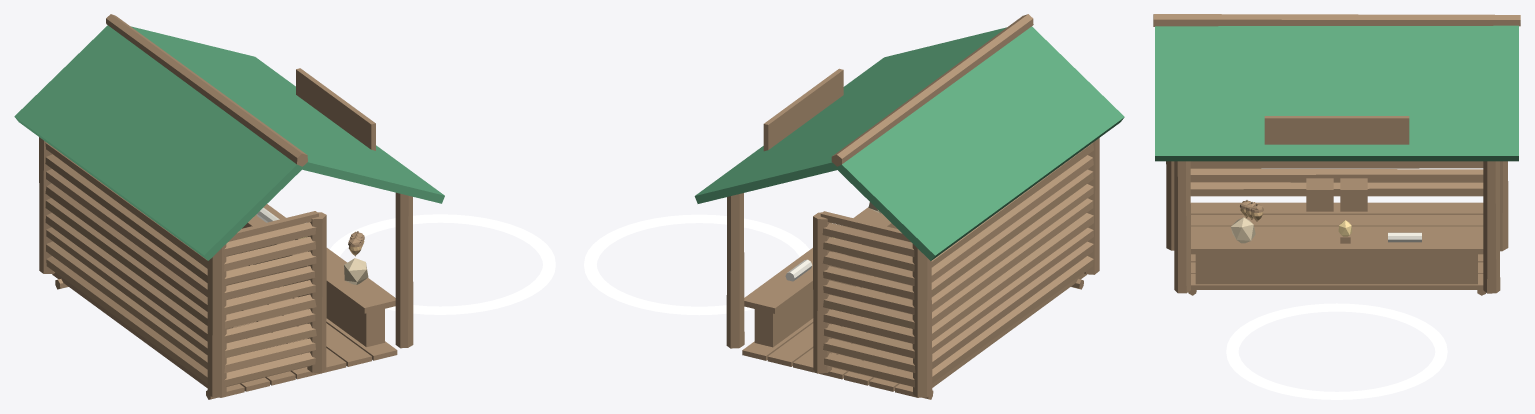
Rendered from RangerStation.fbx.
3 views of the same model, side by side, from view 1: azimuth 30°, elevation 25°; view 2: azimuth 150°, elevation 25°; view 3: azimuth 270°, elevation 25° (orthographic). The views are drawn at different scales.
Visible parts, largest first — view 1: RangerStation_Logs, RangerStation_Roof, RangerStation_Planks, RangerStation_Glow, RangerStation_Sacks; view 2: RangerStation_Logs, RangerStation_Roof, RangerStation_Planks, RangerStation_Glow; view 3: RangerStation_Roof, RangerStation_Planks, RangerStation_Logs, RangerStation_Glow, RangerStation_Sacks, RangerStation_Paper.
Boxes of the visible parts, bbox=[...] form: RangerStation_Logs: bbox=[39, 14, 413, 399]; RangerStation_Roof: bbox=[14, 25, 444, 260]; RangerStation_Planks: bbox=[52, 68, 397, 397]; RangerStation_Glow: bbox=[330, 214, 555, 314]; RangerStation_Sacks: bbox=[344, 258, 368, 284]; RangerStation_Logs: bbox=[726, 14, 1099, 399]; RangerStation_Roof: bbox=[694, 26, 1124, 260]; RangerStation_Planks: bbox=[742, 68, 1086, 397]; RangerStation_Glow: bbox=[584, 214, 809, 315]; RangerStation_Roof: bbox=[1155, 25, 1518, 161]; RangerStation_Planks: bbox=[1190, 116, 1483, 289]; RangerStation_Logs: bbox=[1153, 14, 1520, 295]; RangerStation_Glow: bbox=[1226, 303, 1447, 399]; RangerStation_Sacks: bbox=[1230, 217, 1255, 243]; RangerStation_Paper: bbox=[1388, 232, 1421, 242].
Size of the model in its own units: 28.05 by 15.13 by 21.61.
